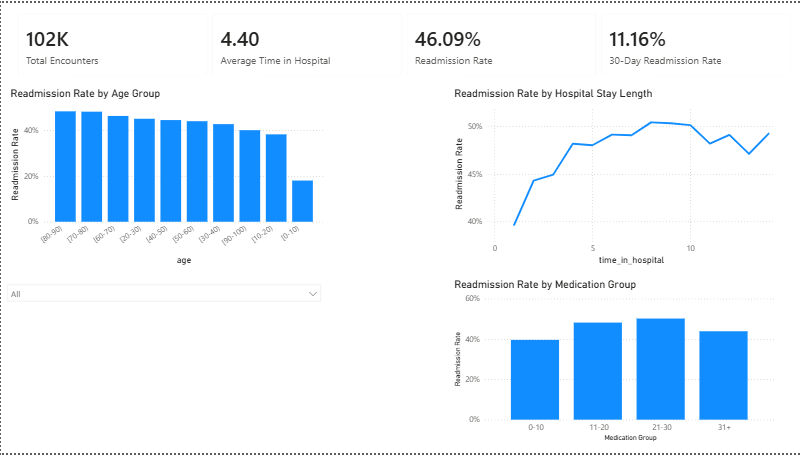

Layout of this report page (visuals, bound fields, positions):
{"tool":"powerbi","page":{"name":"Page 1","canvas":[1280,720],"ordinal":0},"visuals":[{"type":"clusteredColumnChart","title":"Readmission Rate by Age Group","fields":{"Y":["diabetic_data.Readmission Rate"],"Category":["diabetic_data.age"]},"box":[10,133.3,511.7,290],"z":0},{"type":"lineChart","title":"Readmission Rate by Hospital Stay Length","fields":{"Category":["diabetic_data.time_in_hospital"],"Y":["diabetic_data.Readmission Rate"]},"box":[720,133.3,523.3,290],"z":1000},{"type":"clusteredColumnChart","fields":{"Category":["diabetic_data.Medication Group"],"Y":["diabetic_data.Readmission Rate"]},"box":[720,440,523.3,266.7],"z":2000},{"type":"slicer","fields":{"Values":["diabetic_data.gender","diabetic_data.race","diabetic_data.age"]},"box":[0,440,522,266],"z":3000},{"type":"cardVisual","fields":{"Data":["diabetic_data.Total Encounters","diabetic_data.Average Time in Hospital","diabetic_data.Readmission Rate","diabetic_data.30-Day Readmission Rate"]},"box":[10,0,1270,133.3],"z":4000}]}

Visuals, with their boxes in screenshot pixels (x1, y1, x2, y2), scaled from the page's 1280x720 canvas onto the 801x456 screenshot:
"Readmission Rate by Age Group" clusteredColumnChart: crop(6, 84, 326, 268)
"Readmission Rate by Hospital Stay Length" lineChart: crop(451, 84, 778, 268)
clusteredColumnChart - diabetic_data.Medication Group x diabetic_data.Readmission Rate: crop(451, 279, 778, 448)
slicer - diabetic_data.gender x diabetic_data.race: crop(0, 279, 327, 447)
cardVisual - diabetic_data.Total Encounters x diabetic_data.Average Time in Hospital: crop(6, 0, 800, 84)
